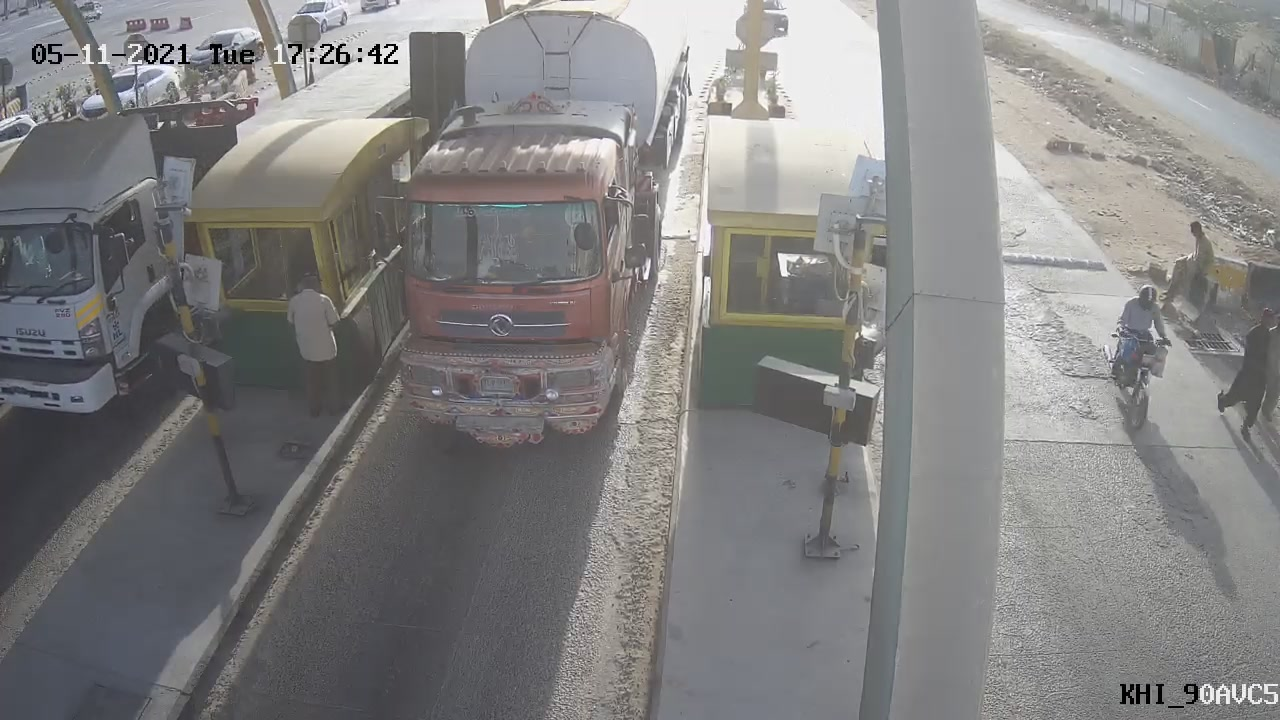F6: (347, 1, 705, 469)
